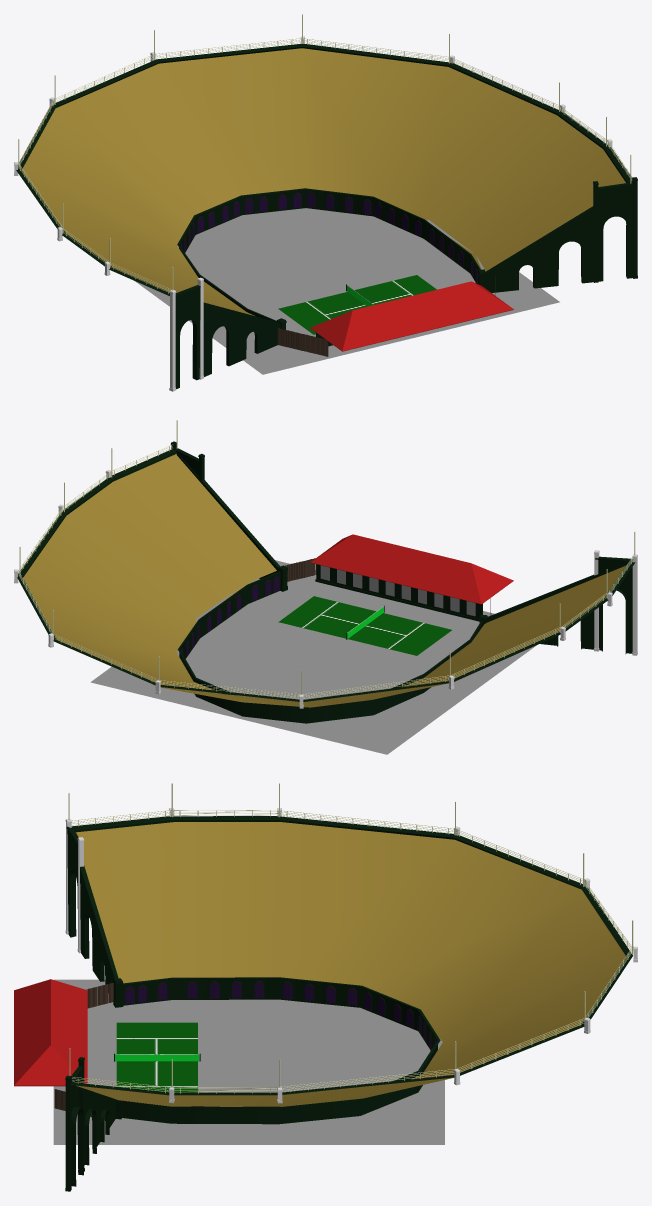
The model's file is Ashe68 Stadium Menu.FBX.
3 renders of one model, top to bottom at view 1: azimuth 30°, elevation 25°; view 2: azimuth 150°, elevation 25°; view 3: azimuth 270°, elevation 25°, orthographic. The views are drawn at different scales.
Visible parts, largest first — view 1: Object001, Box001, Box002, Object011, Object012, Plane002, Object016, Object015, Object007, Object008, Object002, Object009 (+6 smaller); view 2: Object001, Box001, Box002, Plane002, Object012, Object017, Object011, Object010, Object015, Object008, Object007, Object009 (+11 smaller); view 3: Object001, Box001, Box002, Plane002, Object011, Object014, Object016, Object012, Object013, Object007, Object009, Object015 (+9 smaller).
Part boxes in pixels (<box>): Object001: <box>22,48,625,315</box>; Box001: <box>16,43,633,389</box>; Box002: <box>310,281,513,351</box>; Object011: <box>208,244,324,293</box>; Object012: <box>283,226,399,275</box>; Plane002: <box>278,275,436,334</box>; Object016: <box>188,215,282,262</box>; Object015: <box>243,208,356,243</box>; Object007: <box>251,275,347,325</box>; Object008: <box>326,257,441,289</box>; Object002: <box>220,325,336,374</box>; Object009: <box>400,243,485,288</box>; Object001: <box>23,453,625,707</box>; Box001: <box>17,448,635,723</box>; Box002: <box>310,534,513,604</box>; Plane002: <box>278,596,451,655</box>; Object012: <box>207,637,323,686</box>; Object017: <box>313,712,429,754</box>; Object011: <box>282,656,398,697</box>; Object010: <box>377,674,472,723</box>; Object015: <box>165,669,281,718</box>; Object008: <box>250,606,346,655</box>; Object007: <box>325,639,440,673</box>; Object009: <box>195,592,292,637</box>; Object001: <box>76,822,625,1106</box>; Box001: <box>66,816,632,1186</box>; Box002: <box>14,979,87,1086</box>; Plane002: <box>116,1022,197,1092</box>; Object011: <box>249,1021,347,1062</box>; Object014: <box>347,1103,444,1144</box>; Object016: <box>347,1021,442,1062</box>; Object012: <box>249,1062,347,1092</box>; Object013: <box>249,1117,347,1144</box>; Object007: <box>151,1021,249,1062</box>; Object009: <box>151,1121,249,1144</box>; Object015: <box>347,1062,444,1103</box>.
Size of the model in its own units: 3414 by 793 by 3195.
